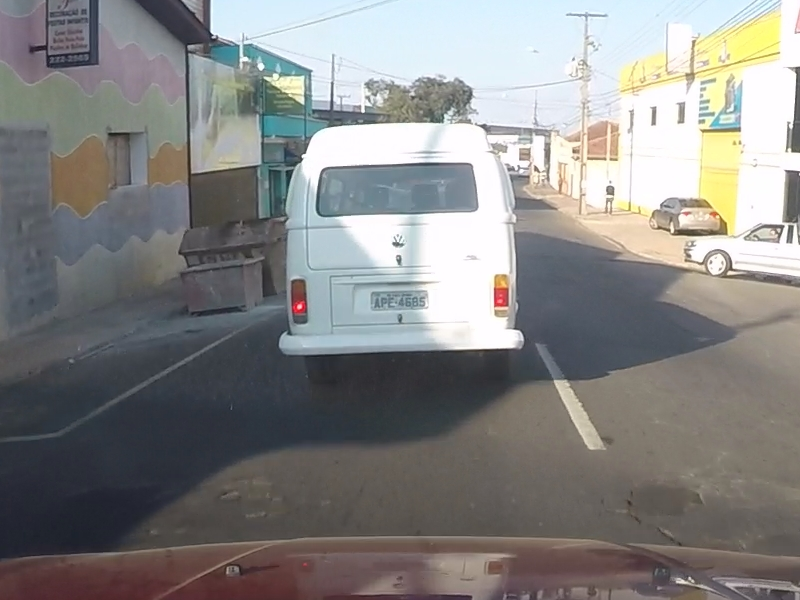placa: (371, 291, 429, 310)
